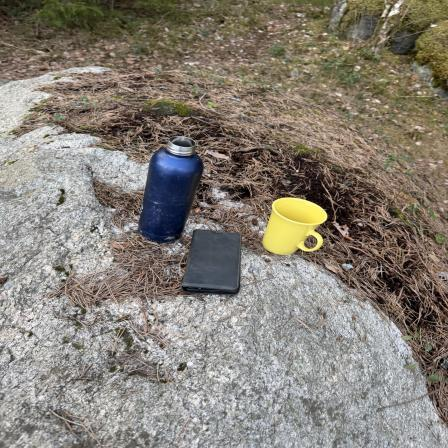blue_bottle: (140, 136, 201, 244)
phone: (187, 228, 246, 297)
yellow_cup: (266, 196, 330, 259)
